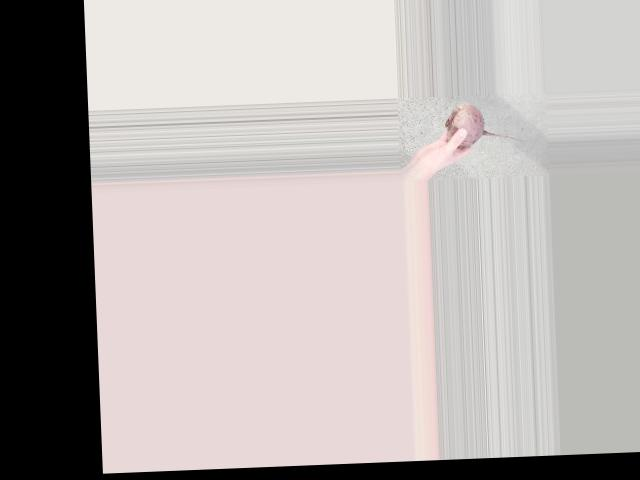beet: (444, 100, 523, 146)
